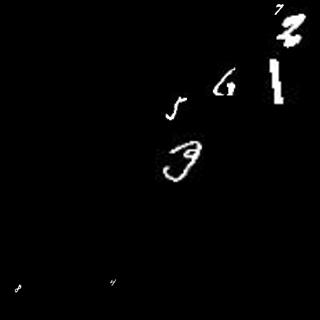eight: (14, 280, 23, 294)
five: (161, 92, 187, 121)
four: (109, 277, 118, 288)
one: (270, 59, 282, 104)
seven: (273, 1, 283, 14)
six: (214, 64, 240, 98)
three: (166, 135, 204, 183)
two: (277, 13, 308, 41)
